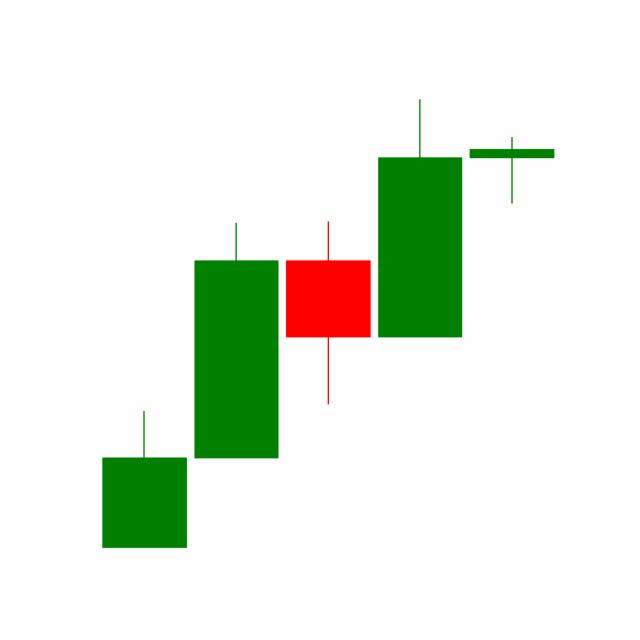Dragonfly Doji: (464, 136, 558, 204)
